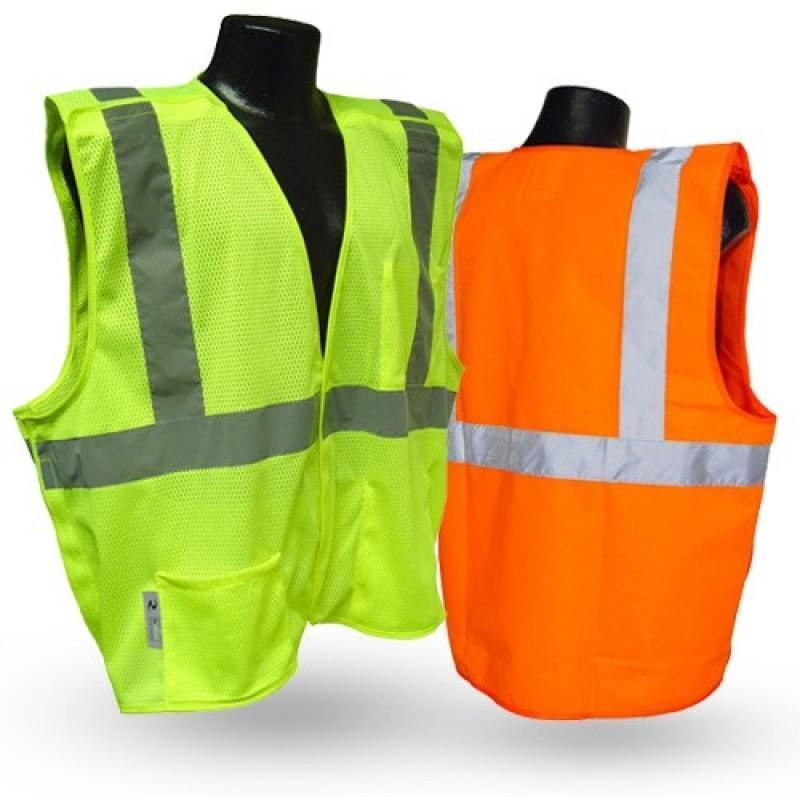vest: (11, 66, 463, 717), (437, 139, 776, 731)
